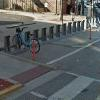Bicycle: (8, 19, 48, 56)
